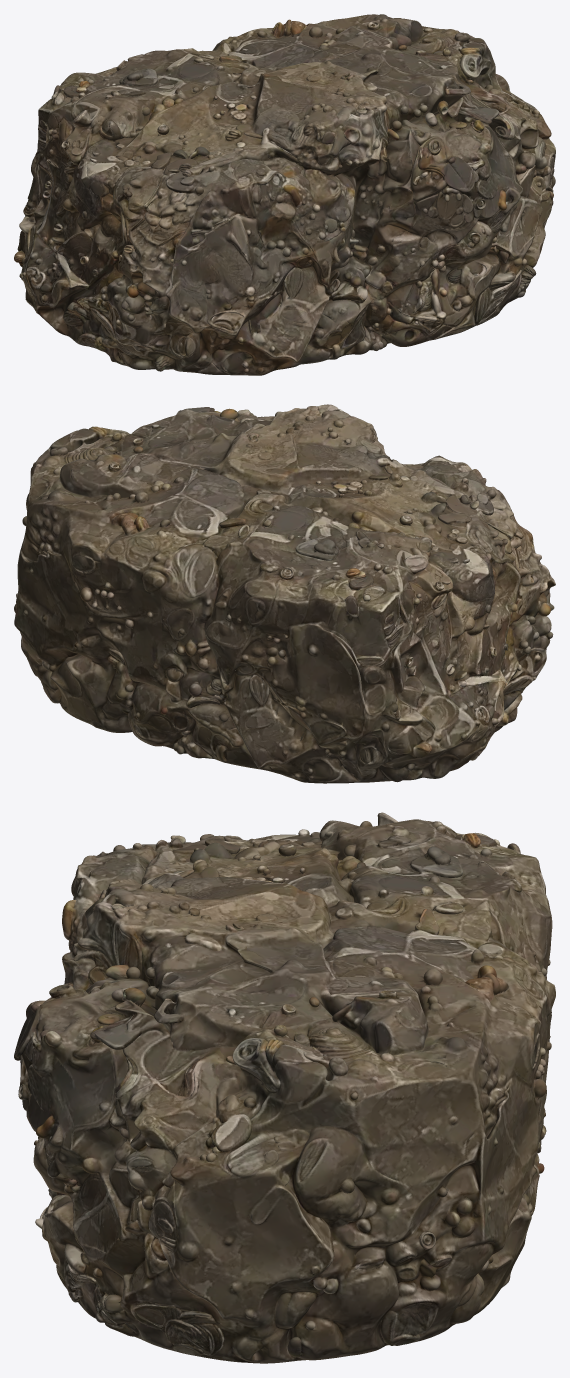
Rendered from tar-pit.glb.
3 views of the same model, one above another, from view 1: azimuth 30°, elevation 25°; view 2: azimuth 150°, elevation 25°; view 3: azimuth 270°, elevation 25° (orthographic). The views are drawn at different scales.
Parts seen in each view (by area): view 1: tripo_node_c4a46134-9058-4b4d-984c-707efadc572f; view 2: tripo_node_c4a46134-9058-4b4d-984c-707efadc572f; view 3: tripo_node_c4a46134-9058-4b4d-984c-707efadc572f.
Boxes of the visible parts, x1=… form: tripo_node_c4a46134-9058-4b4d-984c-707efadc572f: x1=14, y1=14, x2=555, y2=375; tripo_node_c4a46134-9058-4b4d-984c-707efadc572f: x1=14, y1=404, x2=555, y2=783; tripo_node_c4a46134-9058-4b4d-984c-707efadc572f: x1=14, y1=812, x2=555, y2=1363.
Bounding box in the file's own units: 0.98 × 0.477 × 0.7005.
1 material, 1 textured.
